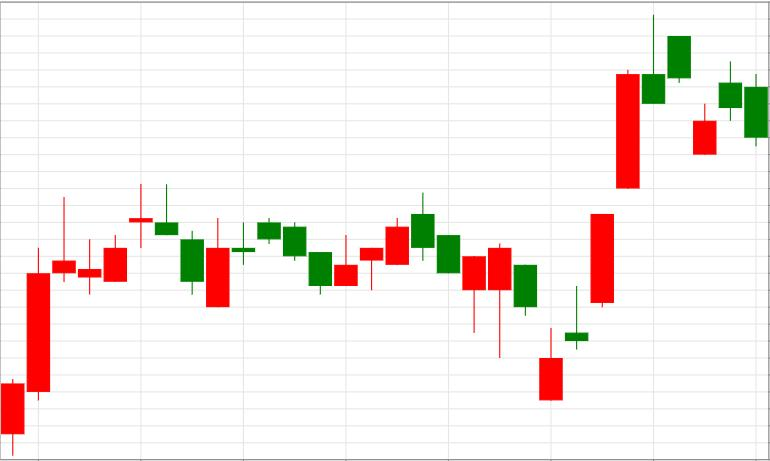bullish_engulfing_rise: (129, 184, 229, 308)
shooting_star_fall: (539, 14, 666, 400)
